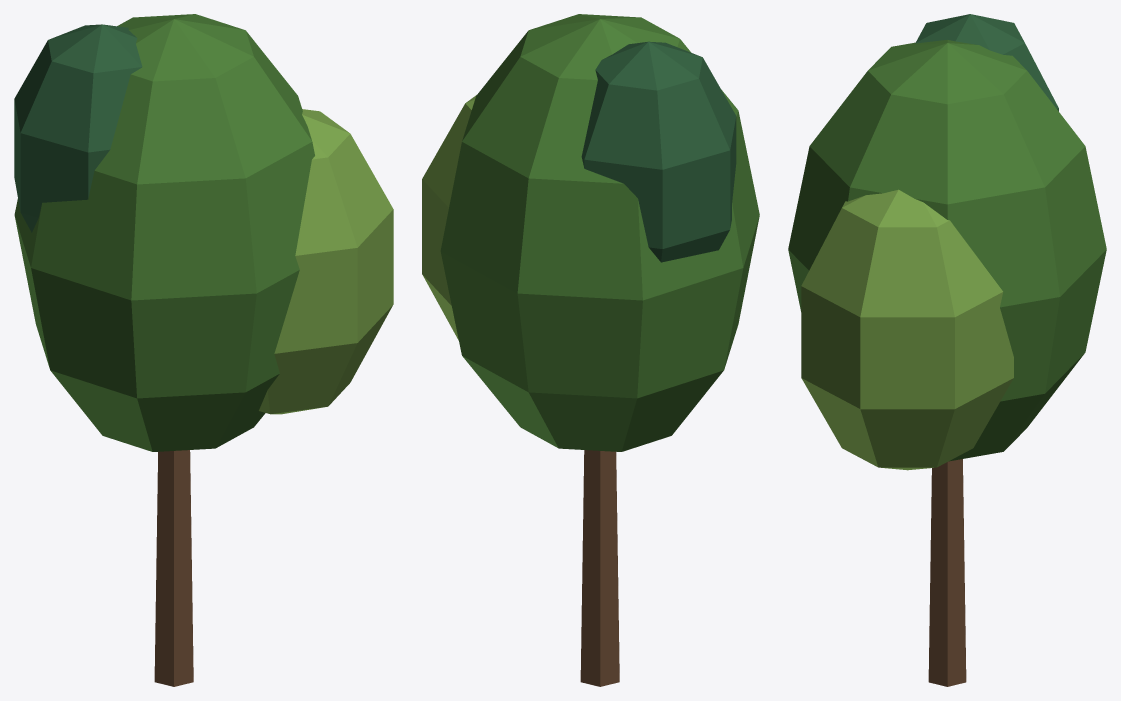
File: TreeTall.obj
3 renders of one model, left to right at view 1: azimuth 30°, elevation 25°; view 2: azimuth 150°, elevation 25°; view 3: azimuth 270°, elevation 25°, orthographic. The views are drawn at different scales.
Visible parts, largest first — view 1: TreeTall; view 2: TreeTall; view 3: TreeTall.
Boxes of the visible parts, x1,y1,x2,y2 form: TreeTall: [14, 14, 393, 686]; TreeTall: [422, 14, 759, 686]; TreeTall: [788, 14, 1106, 686].
Bounding box in the file's own units: 3.1 × 6.16 × 2.8.
